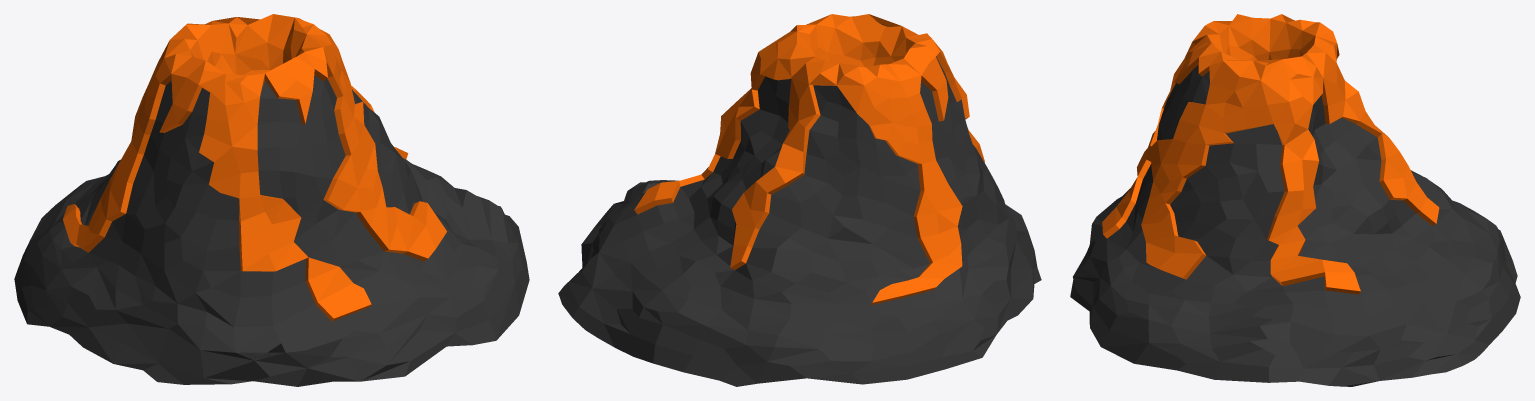
Rendered from Island_3.fbx.
3 views of the same model, side by side, from view 1: azimuth 30°, elevation 25°; view 2: azimuth 150°, elevation 25°; view 3: azimuth 270°, elevation 25° (orthographic). The views are drawn at different scales.
Visible parts, largest first — view 1: Cube.099; view 2: Cube.099; view 3: Cube.099.
Part boxes in pixels (<box>): Cube.099: <box>14,14,529,386</box>; Cube.099: <box>558,14,1041,386</box>; Cube.099: <box>1070,14,1520,386</box>.
Size of the model in its own units: 39.27 by 23.25 by 38.03.
